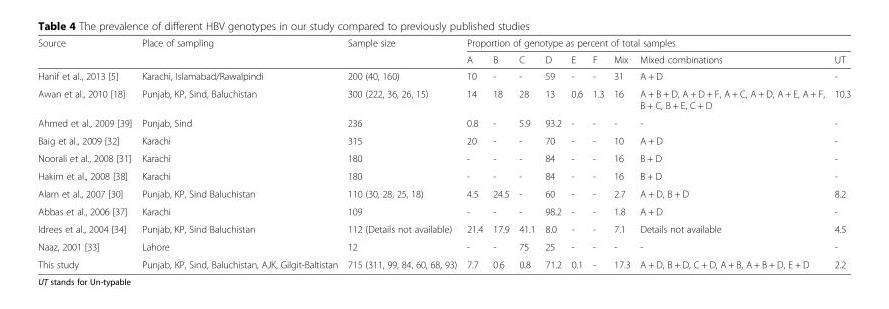table: (37, 36, 850, 269)
table column: (136, 36, 342, 269), (634, 36, 828, 269), (342, 36, 461, 269), (37, 36, 136, 269), (461, 36, 487, 269), (487, 36, 513, 269), (513, 36, 539, 269), (539, 36, 565, 269), (608, 36, 634, 269), (586, 36, 608, 269), (828, 36, 850, 269), (565, 36, 586, 269)
table column header: (37, 36, 850, 67)
table row: (37, 84, 850, 113), (37, 113, 850, 131), (37, 131, 850, 149), (37, 166, 850, 184), (37, 184, 850, 202), (37, 219, 850, 237), (37, 237, 850, 255), (37, 50, 850, 67), (37, 67, 850, 84), (37, 149, 850, 166), (37, 202, 850, 219), (37, 36, 850, 50), (37, 255, 850, 269)
table spanning cell: (136, 36, 342, 67), (461, 36, 850, 50), (342, 36, 461, 67), (37, 36, 136, 67)
